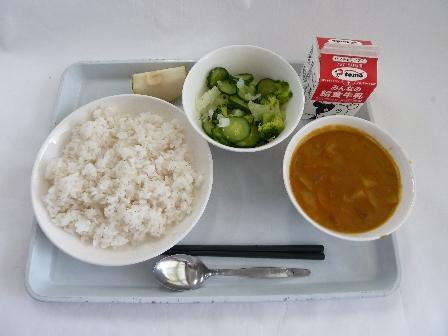Apple: (129, 57, 189, 103)
Curry: (287, 121, 411, 238)
Milk: (300, 23, 381, 115)
Rice: (26, 96, 201, 253)
Salad: (185, 51, 294, 143)
